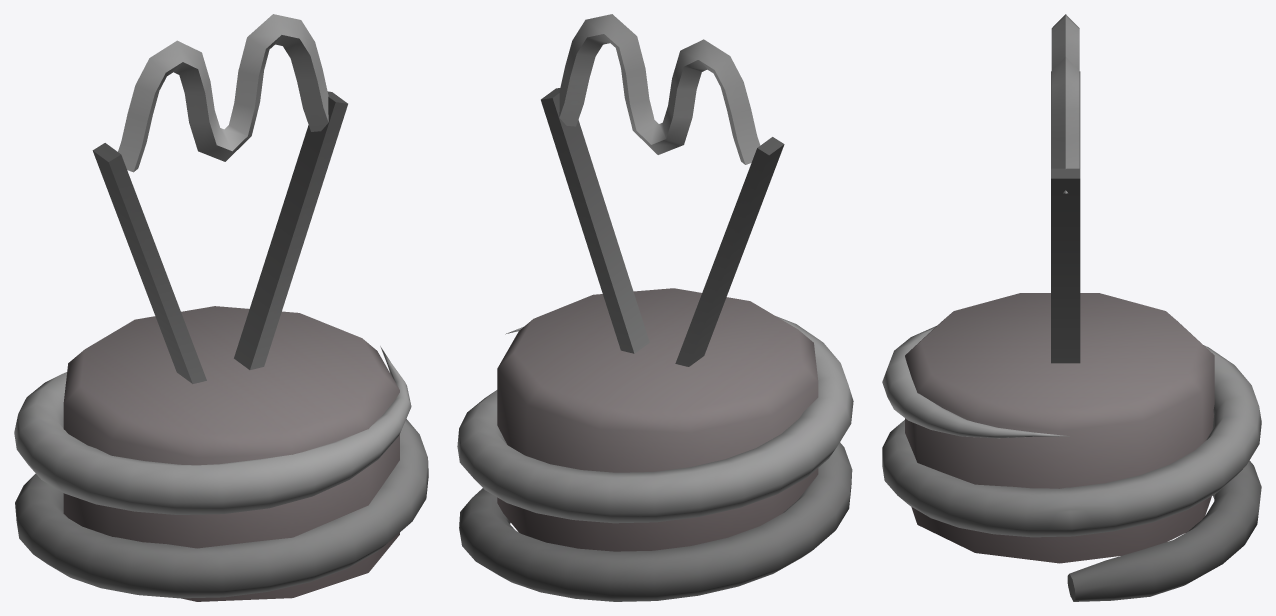
File: lightbulbBase_off.fbx
The picture shows the model from 3 angles, left to right: view 1: azimuth 30°, elevation 25°; view 2: azimuth 150°, elevation 25°; view 3: azimuth 270°, elevation 25°; orthographic projection. The views are drawn at different scales.
Parts seen in each view (by area): view 1: lightbulbBase; view 2: lightbulbBase; view 3: lightbulbBase.
Boxes of the visible parts, x1,y1,x2,y2 form: lightbulbBase: (14,14,428,601); lightbulbBase: (457,14,853,601); lightbulbBase: (882,14,1261,601).
Bounding box in the file's own units: 38.55 × 55.7 × 38.49.
1 material, 1 textured.
